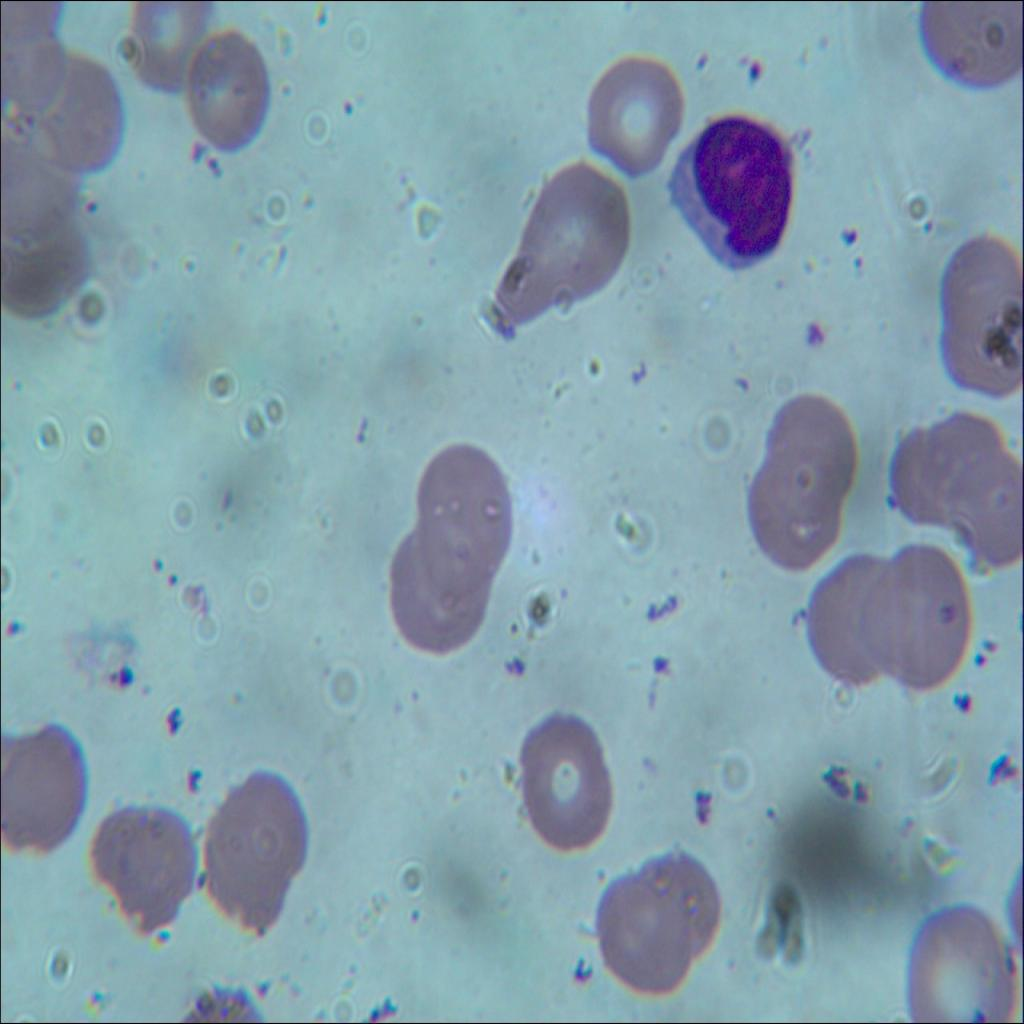Eritrosit: (210, 764, 308, 945), (866, 544, 973, 692), (524, 162, 630, 304), (898, 897, 1014, 1023), (414, 441, 514, 579), (89, 799, 199, 924), (803, 550, 903, 686), (519, 704, 615, 845), (583, 58, 686, 181), (0, 200, 90, 333), (38, 46, 128, 178), (391, 534, 489, 655), (0, 719, 88, 852), (182, 28, 275, 148), (595, 879, 693, 991), (744, 456, 842, 568), (0, 128, 83, 255), (760, 390, 854, 497), (938, 228, 1024, 342), (638, 844, 721, 961), (126, 0, 213, 91), (938, 305, 1023, 396), (0, 22, 68, 129)
Limfosit: (666, 122, 801, 275)
Platelet: (966, 625, 998, 662), (946, 686, 978, 722), (163, 702, 188, 748), (798, 315, 829, 351), (182, 757, 208, 796), (504, 645, 530, 684), (739, 52, 768, 86), (683, 46, 713, 78), (831, 218, 862, 248), (850, 772, 876, 806), (756, 792, 782, 826), (6, 614, 28, 652), (114, 658, 135, 695), (203, 154, 228, 184), (338, 90, 360, 124), (186, 136, 206, 166), (968, 648, 988, 678), (650, 648, 666, 678)
